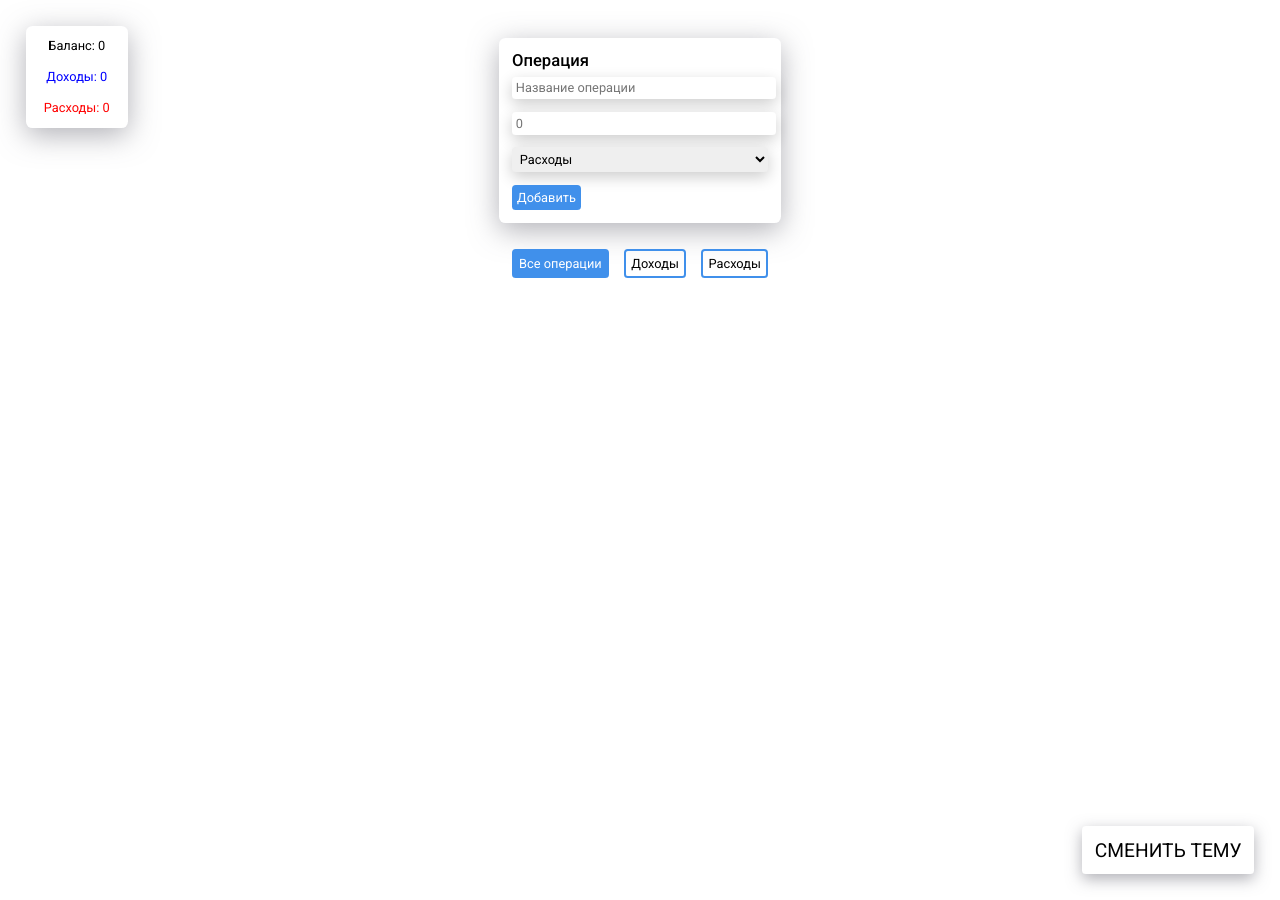
Test: Отправка формы - появление операций › Форма заполненная
In the field with test id "inputTitle": (644, 88) [512,77,776,99], type "Операция"
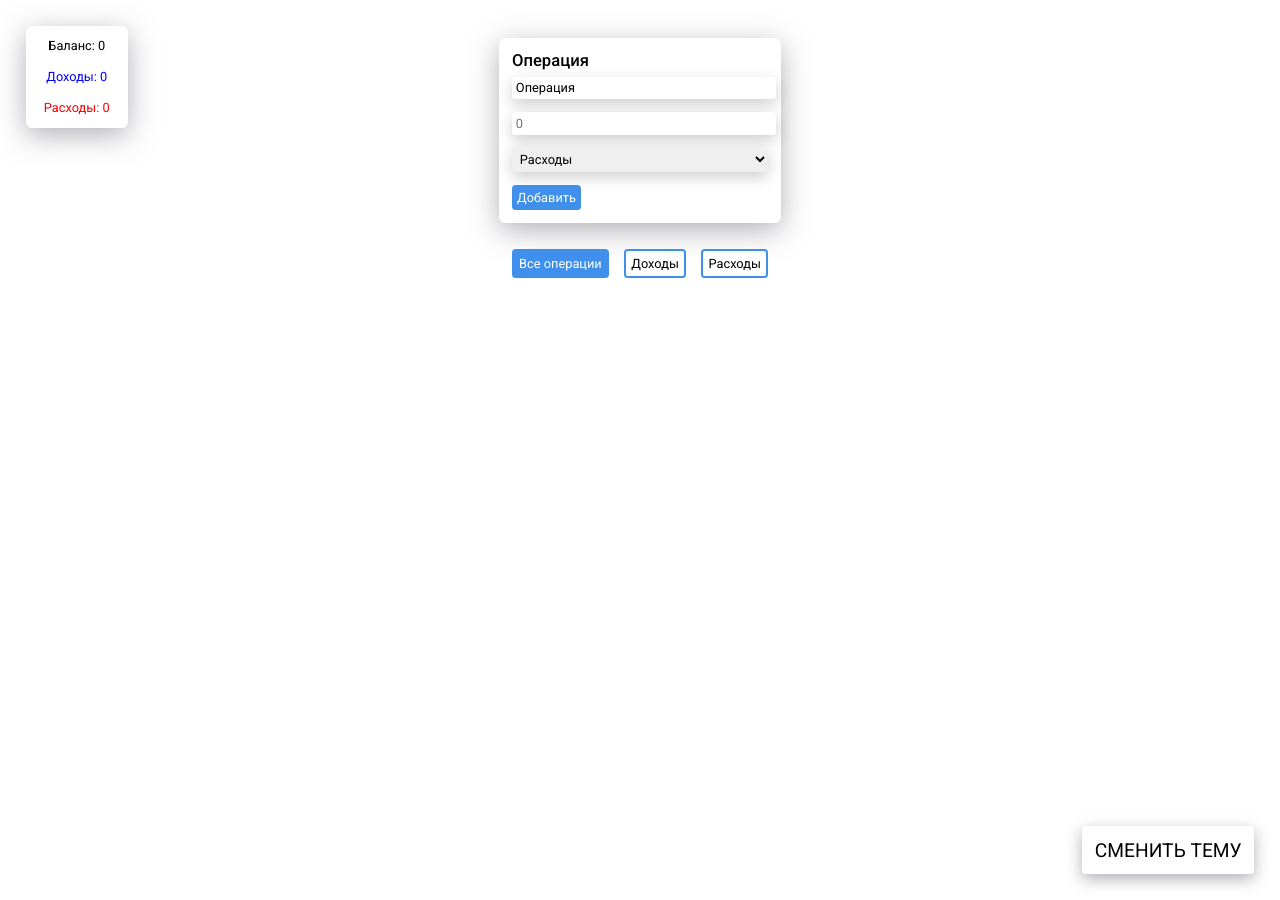
In the number field with test id "inputMoney": (644, 123) [512,112,776,135], type "500"
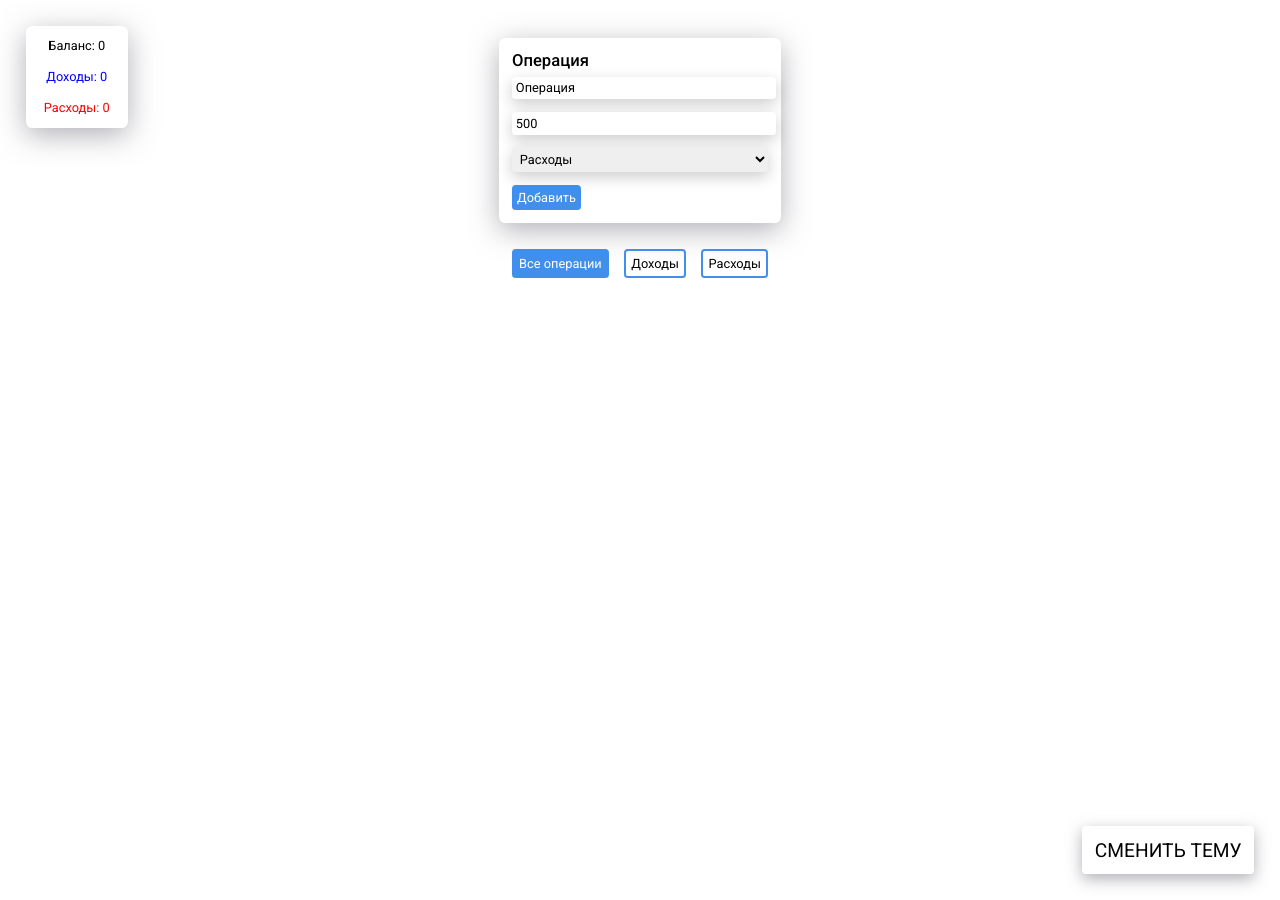
Submit the form with test id "form", box [499,38,781,223]
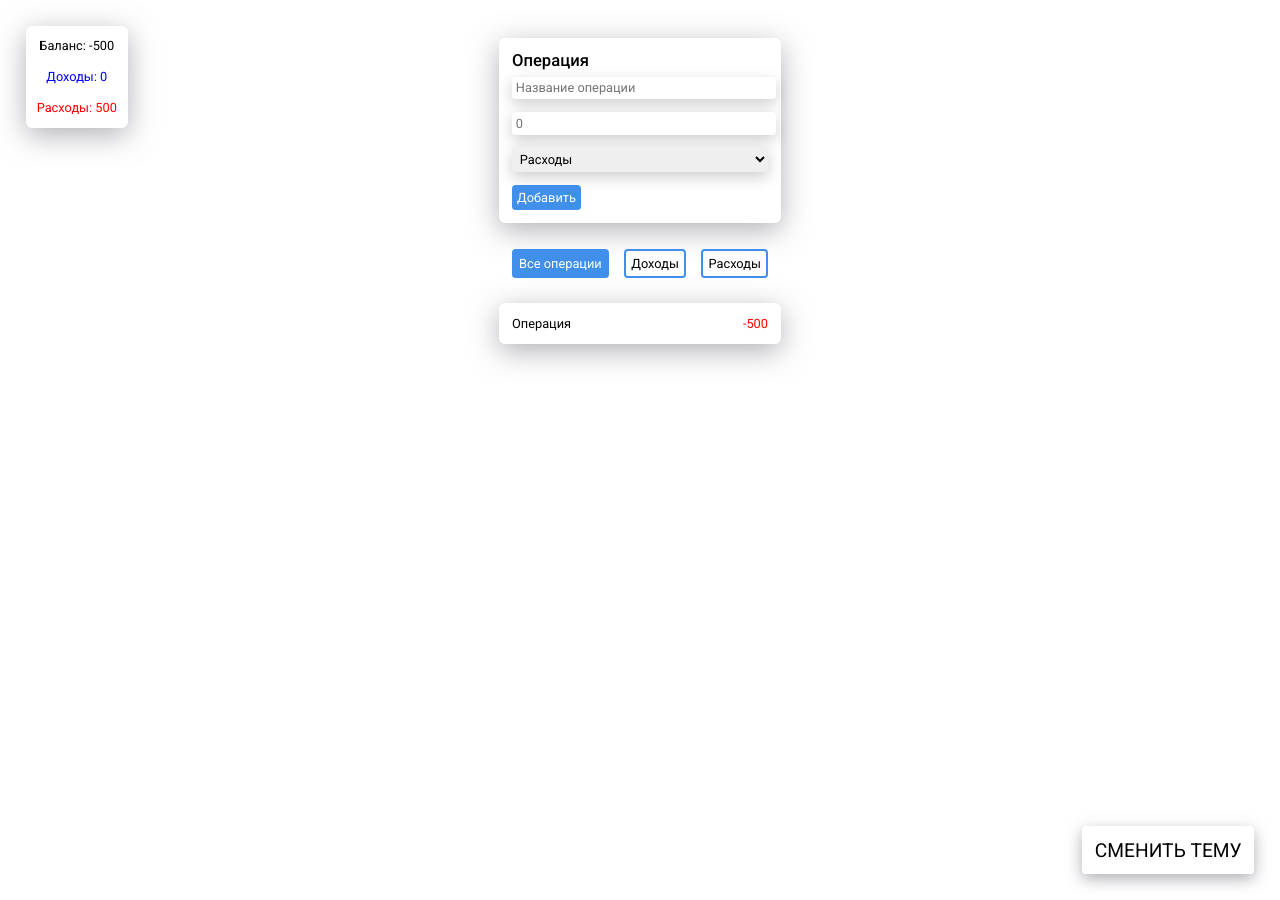
Expected: the element with test id "operations" is shown, [499,303,781,344]
